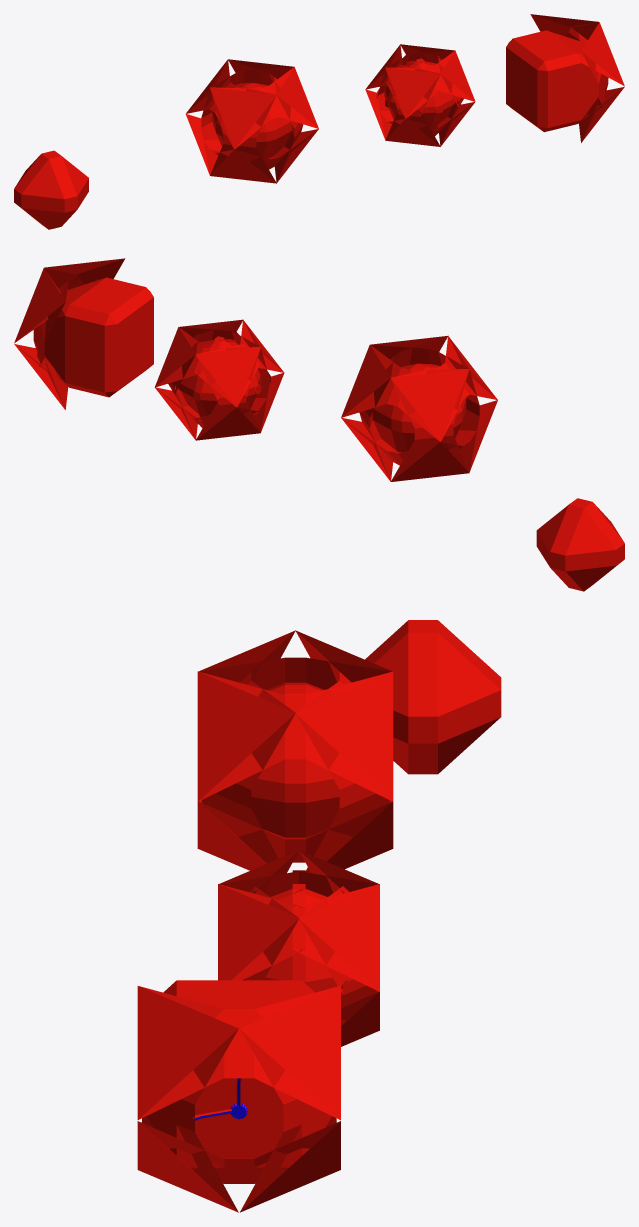
Rendered from Design Testing - Ash Owens.fbx.
3 views of the same model, one above another, from view 1: azimuth 30°, elevation 25°; view 2: azimuth 150°, elevation 25°; view 3: azimuth 270°, elevation 25° (orthographic). The views are drawn at different scales.
Parts seen in each view (by area): view 1: Cube; view 2: Cube; view 3: Cube.
Part boxes in pixels (bbox=[...]): Cube: bbox=[14, 14, 624, 229]; Cube: bbox=[14, 258, 624, 591]; Cube: bbox=[137, 620, 501, 1212].
Size of the model in its own units: 1584 by 369 by 465.
